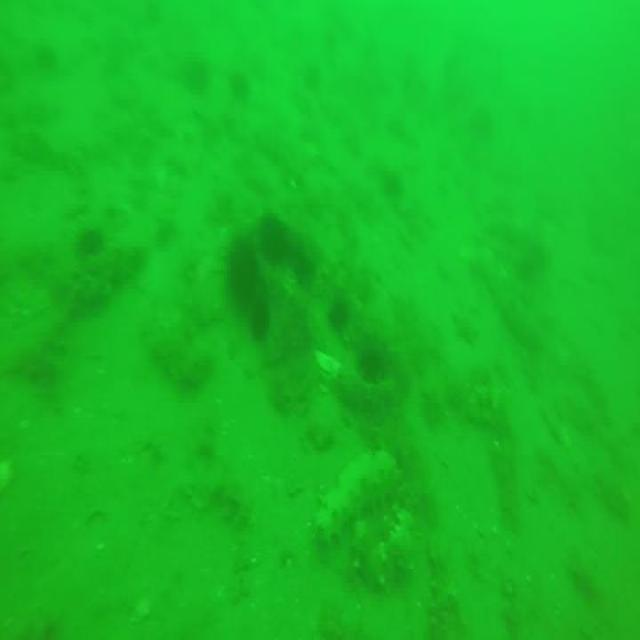echinus: (230, 235, 259, 302), (255, 213, 288, 261), (358, 333, 388, 382), (250, 294, 268, 341), (76, 224, 104, 254), (329, 294, 347, 325)
holothurian: (313, 454, 398, 553)
